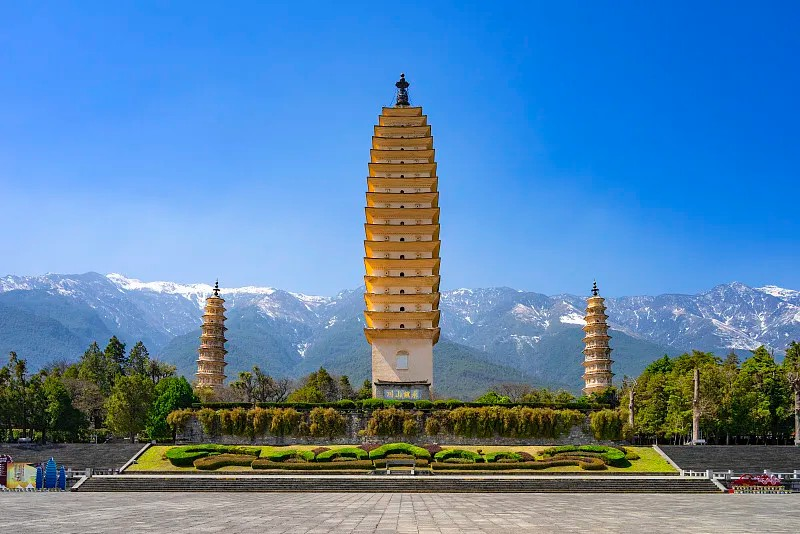ThreePagoda: (363, 74, 441, 403)
